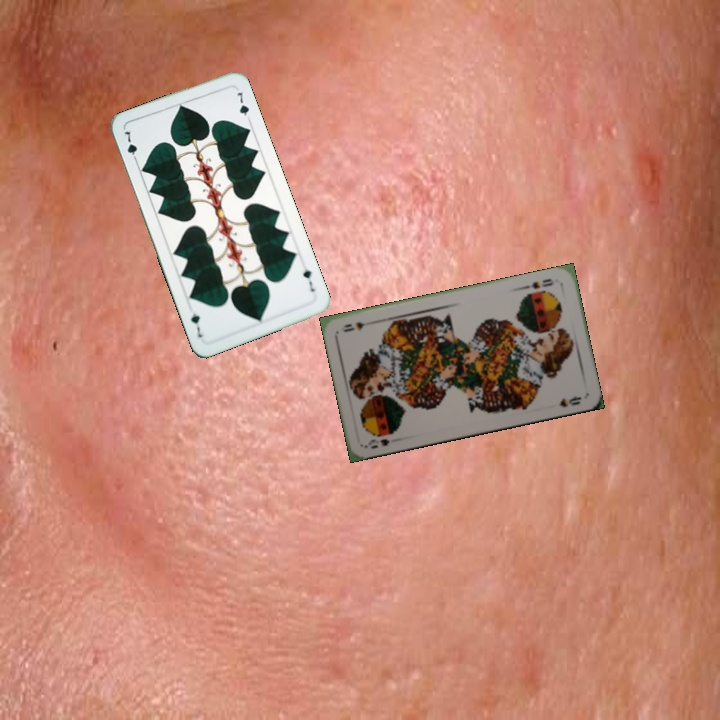G7: (120, 127, 140, 165), (299, 265, 317, 294)
SO: (520, 274, 555, 292), (362, 435, 392, 451)
